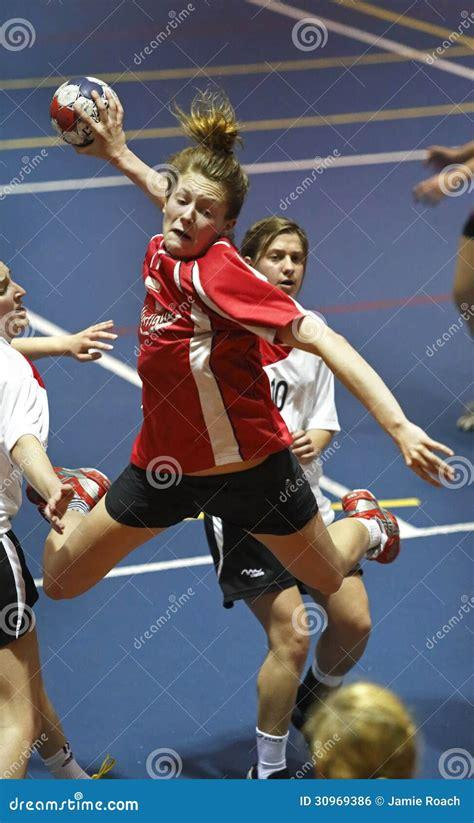ballon_handball: (48, 73, 124, 151)
